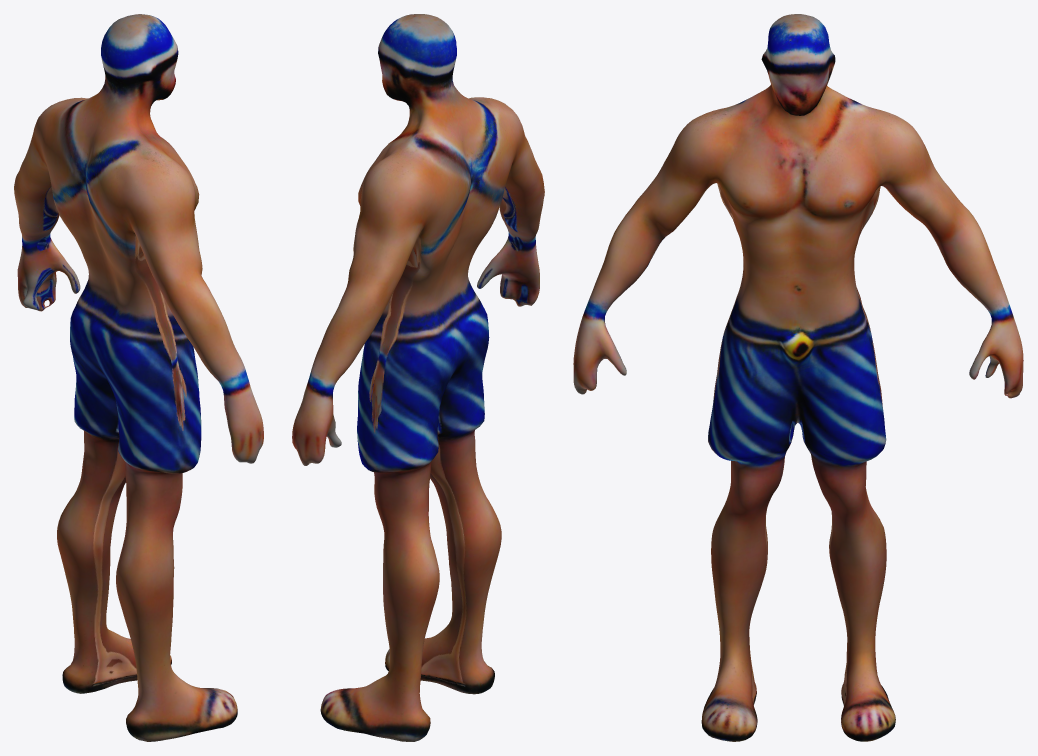
The model's file is 9088c0baff0a_beach_guest_NPC_min.obj.
The picture shows the model from 3 angles, left to right: view 1: azimuth 30°, elevation 25°; view 2: azimuth 150°, elevation 25°; view 3: azimuth 270°, elevation 25°; orthographic projection.
Visible parts, largest first — view 1: mesh; view 2: mesh; view 3: mesh.
Boxes of the visible parts, x1,y1,x2,y2 form: mesh: (14,14,263,741); mesh: (292,14,544,741); mesh: (573,14,1023,741).
Size of the model in its own units: 0.1876 by 0.9996 by 0.5851.
1 material, 1 textured.
